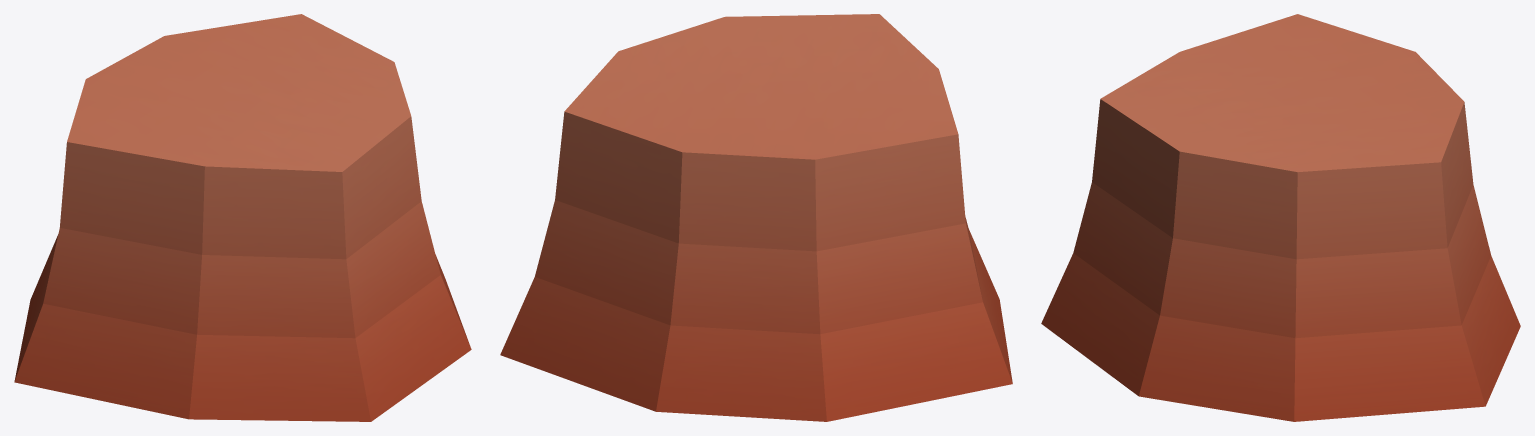
Rendered from cliff4.fbx.
3 renders of one model, left to right at view 1: azimuth 30°, elevation 25°; view 2: azimuth 150°, elevation 25°; view 3: azimuth 270°, elevation 25°, orthographic. The views are drawn at different scales.
Visible parts, largest first — view 1: cliff4; view 2: cliff4; view 3: cliff4.
Boxes of the visible parts, bbox=[...] form: cliff4: bbox=[14, 14, 471, 421]; cliff4: bbox=[500, 14, 1012, 421]; cliff4: bbox=[1041, 14, 1520, 421].
Size of the model in its own units: 5.33 by 2.71 by 5.21.
